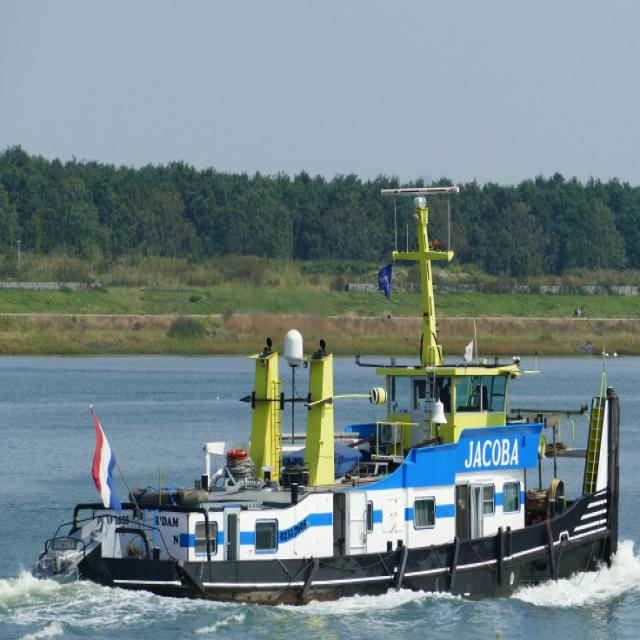tugboat: (31, 183, 626, 620)
